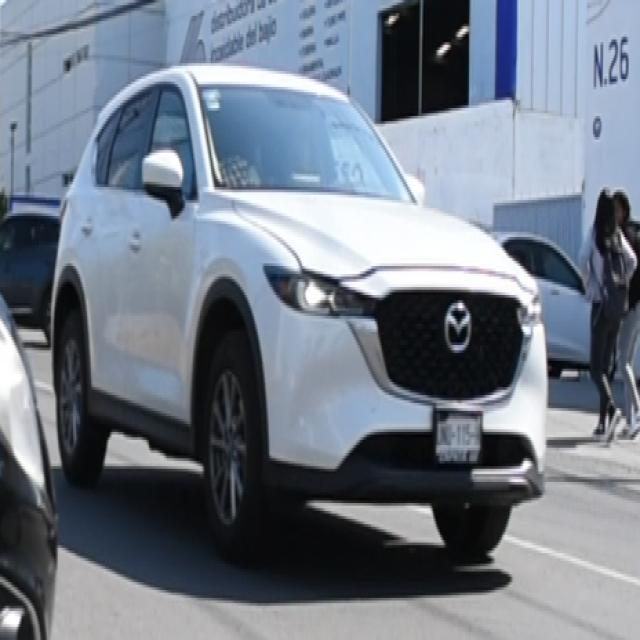placa: (436, 418, 481, 448)
